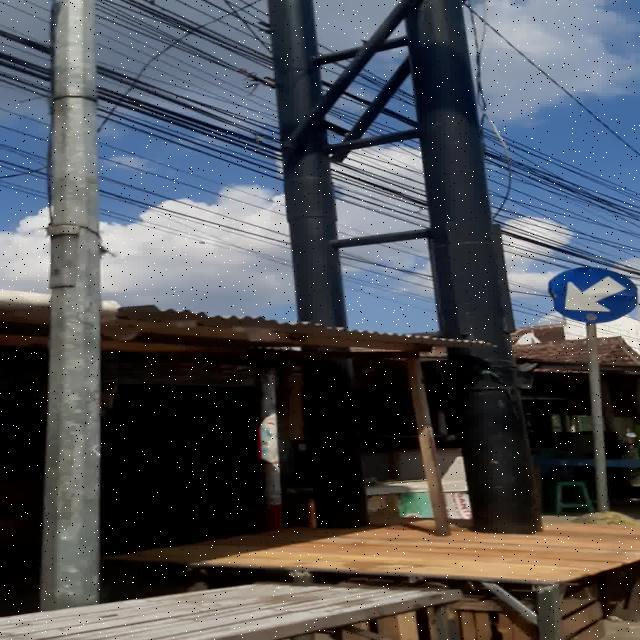Lajur Kiri: (548, 266, 638, 323)
